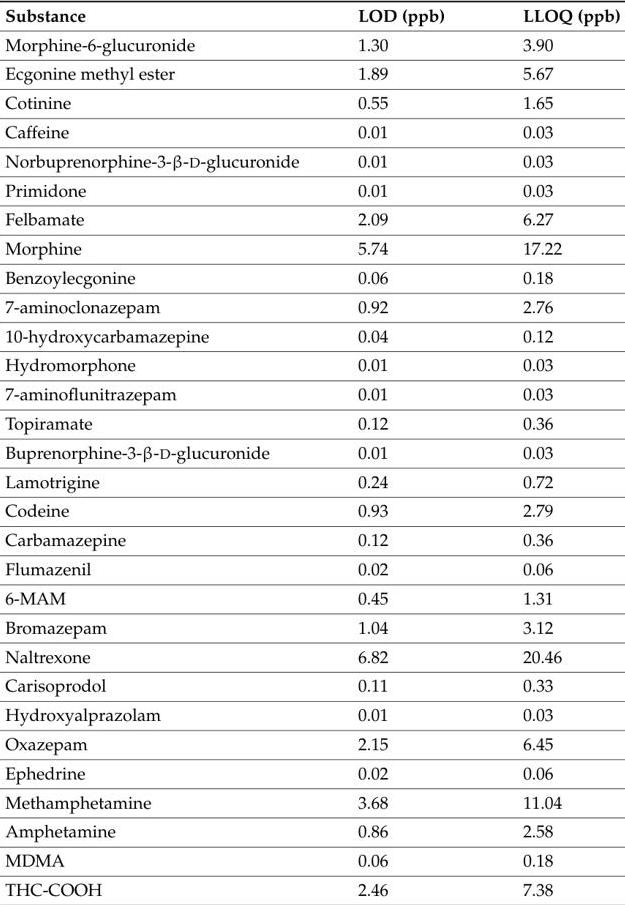table: (4, 4, 620, 900)
table column: (4, 4, 328, 900), (328, 4, 483, 900), (483, 4, 620, 900)
table column header: (4, 4, 620, 29)
table row: (4, 58, 620, 88), (4, 262, 620, 292), (4, 466, 620, 496), (4, 670, 620, 700), (4, 29, 620, 58), (4, 88, 620, 117), (4, 117, 620, 146), (4, 146, 620, 175), (4, 175, 620, 204), (4, 204, 620, 233), (4, 233, 620, 262), (4, 292, 620, 321), (4, 321, 620, 350), (4, 350, 620, 379), (4, 379, 620, 408), (4, 408, 620, 437), (4, 437, 620, 466), (4, 496, 620, 525), (4, 525, 620, 554), (4, 554, 620, 583), (4, 583, 620, 612), (4, 612, 620, 641), (4, 641, 620, 670), (4, 700, 620, 729), (4, 729, 620, 758), (4, 758, 620, 787), (4, 787, 620, 816), (4, 816, 620, 845), (4, 845, 620, 874), (4, 874, 620, 900), (4, 4, 620, 29)
